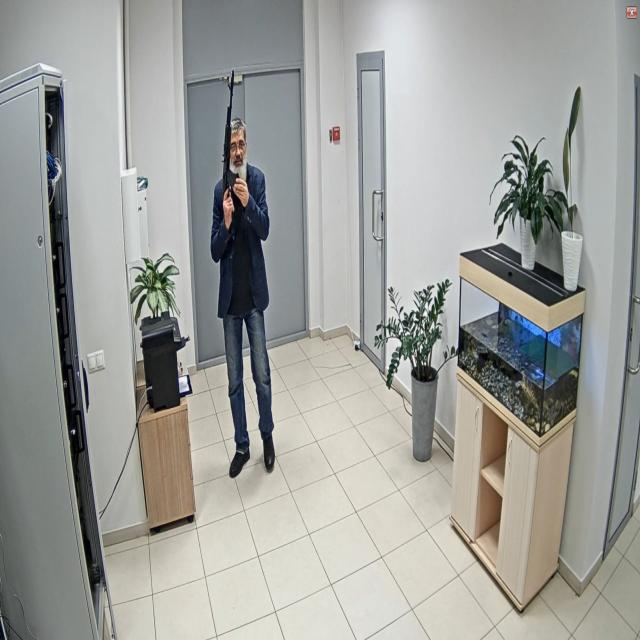-Gun: (223, 70, 236, 195)
